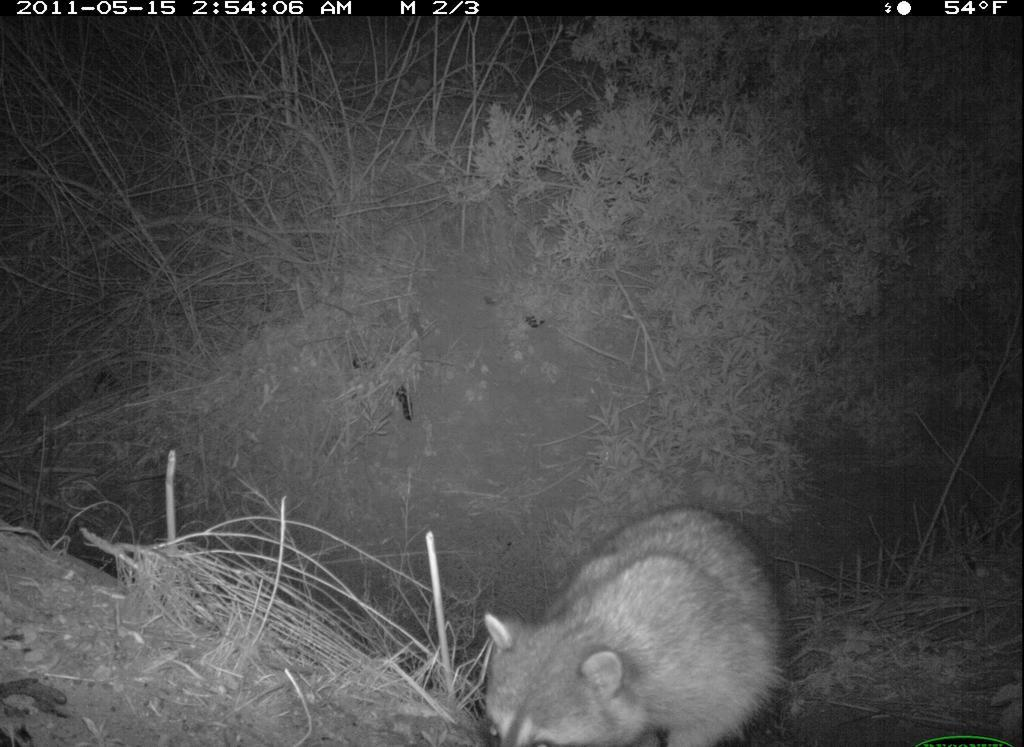raccoon: (479, 495, 792, 747)
